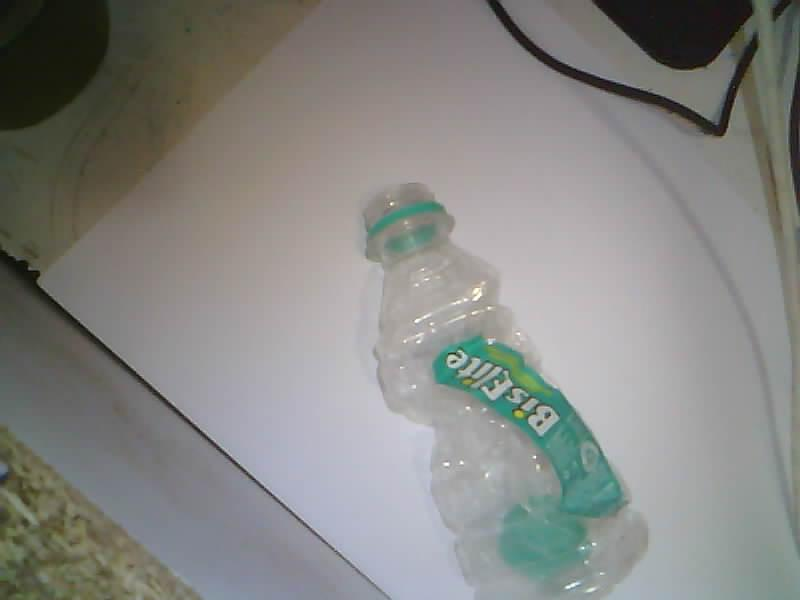non-biodegradable: (365, 184, 645, 599)
